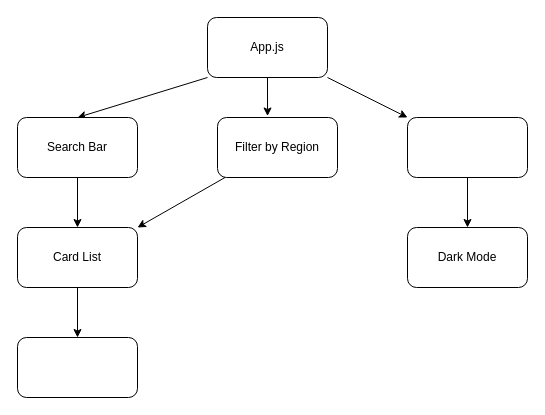
The diagram is 545 pixels wide and 415 high, and some of its shapes have lost their labels. The centre of each missing label's shape, as x and y in pixels:
"Card" goes at point 77,367.
"Header" goes at point 467,147.
